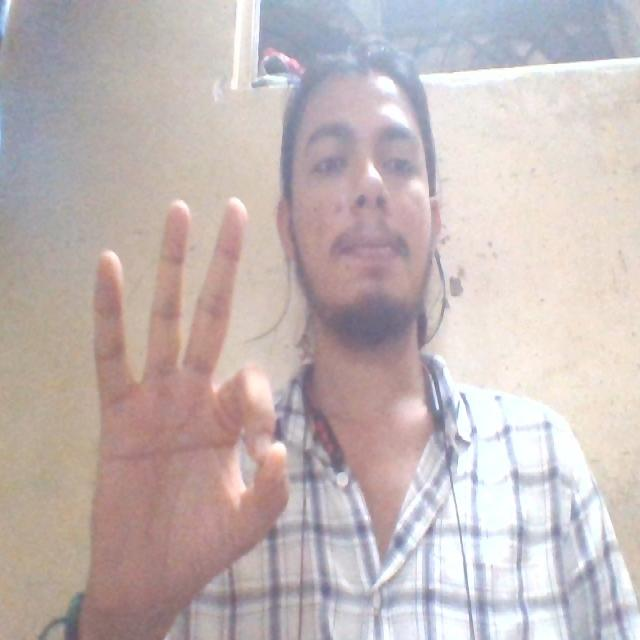Please: (70, 184, 300, 603)
